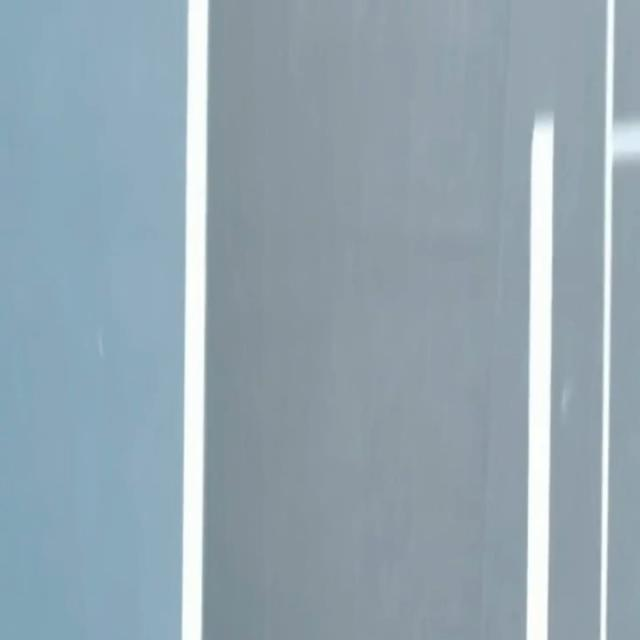center: (526, 116, 554, 639)
left: (181, 0, 208, 639)
